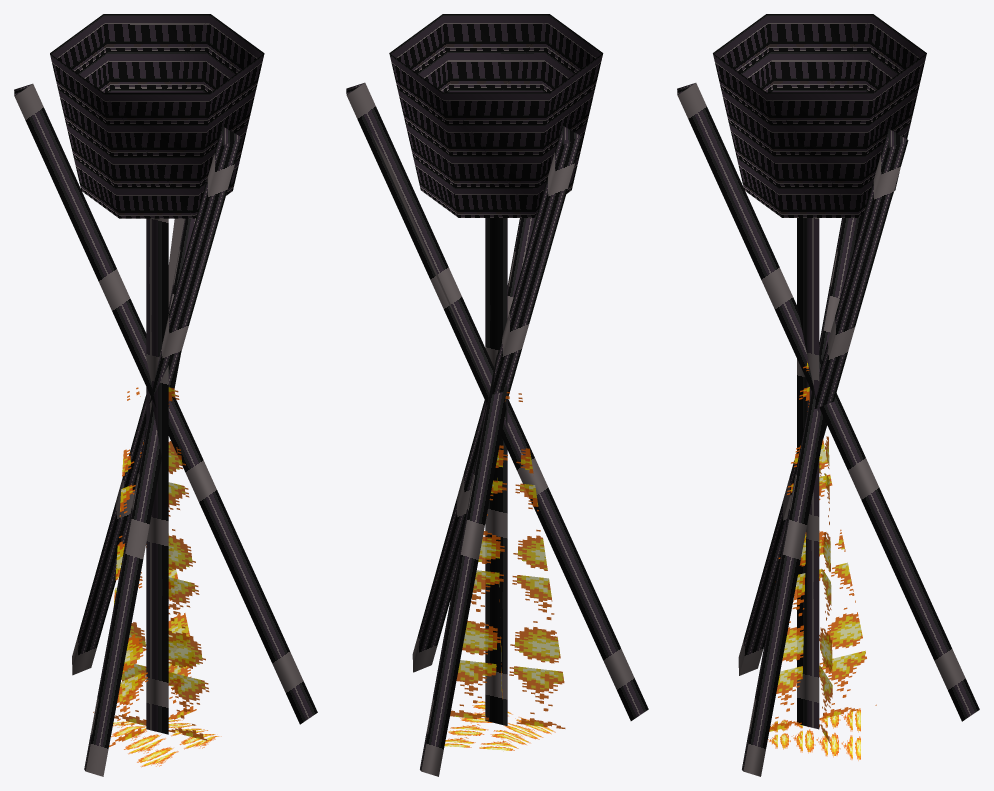
Rendered from 3418IMIG20_17.gltf.
3 views of the same model, side by side, from view 1: azimuth 30°, elevation 25°; view 2: azimuth 150°, elevation 25°; view 3: azimuth 270°, elevation 25° (orthographic).
Parts seen in each view (by area): view 1: 3418IMIG20_17; view 2: 3418IMIG20_17; view 3: 3418IMIG20_17.
Part boxes in pixels (left/top/right/bottom): 3418IMIG20_17: left=14, top=14, right=317, bottom=776; 3418IMIG20_17: left=346, top=14, right=648, bottom=776; 3418IMIG20_17: left=677, top=14, right=979, bottom=776.
Size of the model in its own units: 0.666 by 1.85 by 0.7393.
4 materials, 4 textured.
